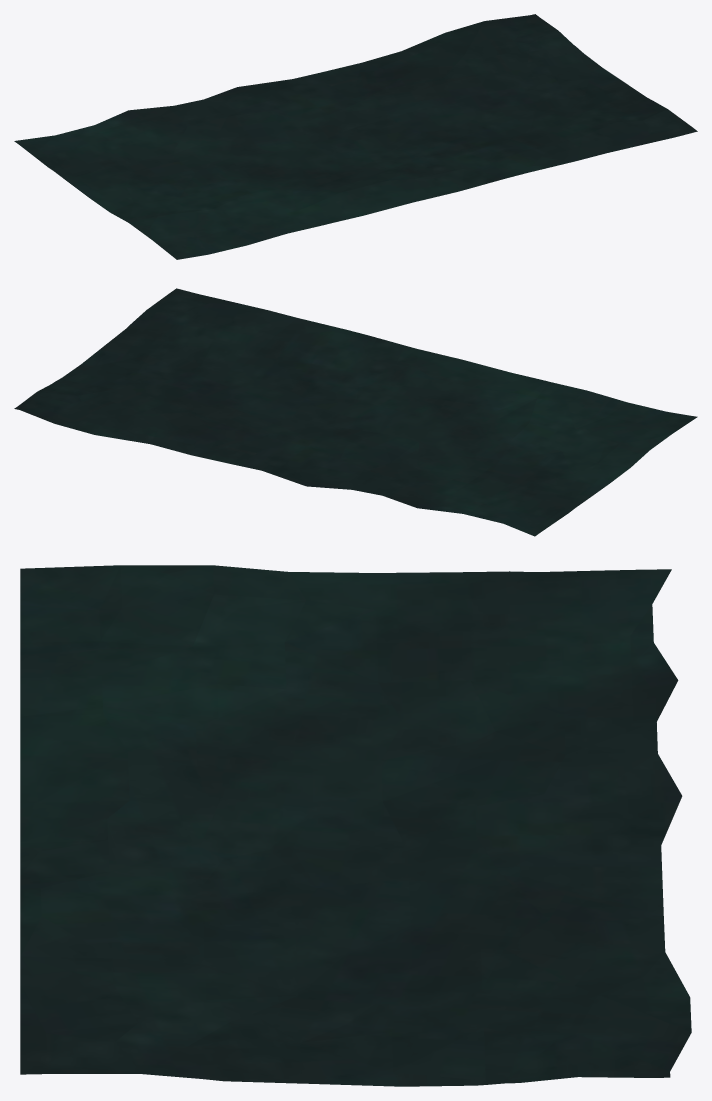
3 views of the same model, one above another, from view 1: azimuth 30°, elevation 25°; view 2: azimuth 150°, elevation 25°; view 3: azimuth 270°, elevation 25° (orthographic). The views are drawn at different scales.
Size of the model in its own units: 52.22 by 0.7424 by 29.14.
Materials: 2 (2 with a texture image).
